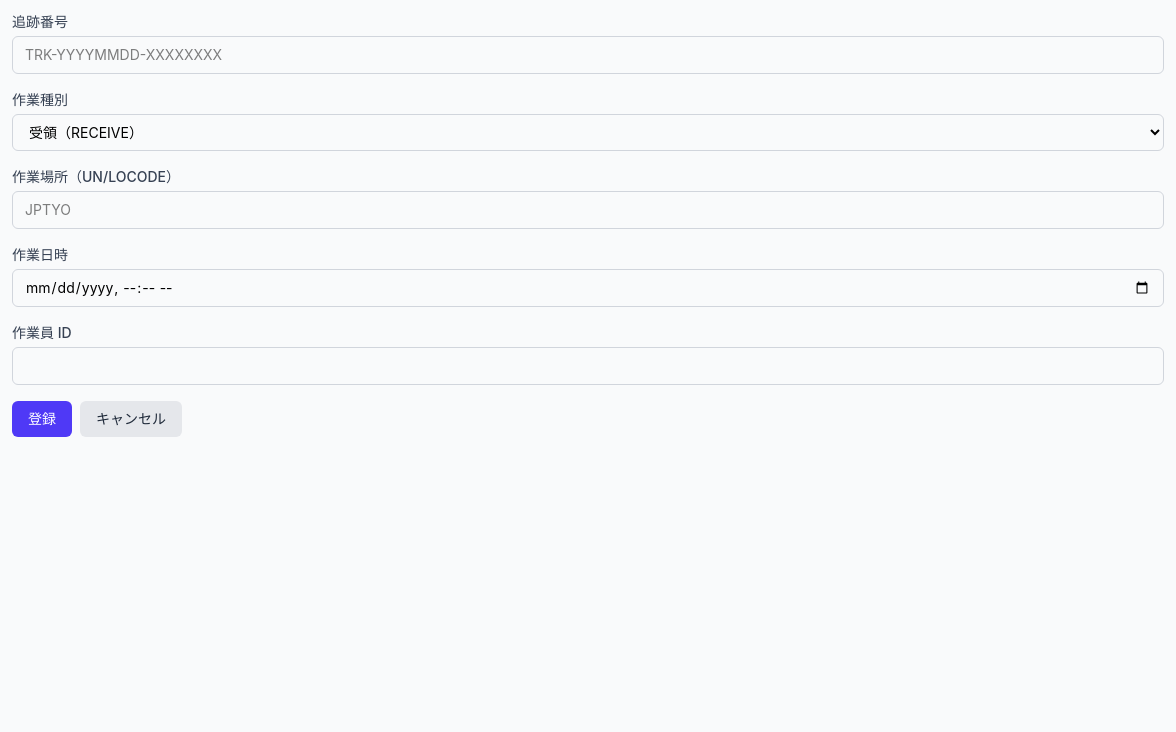
Test: HandlingActivityForm › US16 受入1: CLAIM 種別を選択すると荷受人確認フィールドが表示される
Select "引取（CLAIM）" in the dropdown with test id "handling-type-select": (588, 132) [12,114,1164,151]
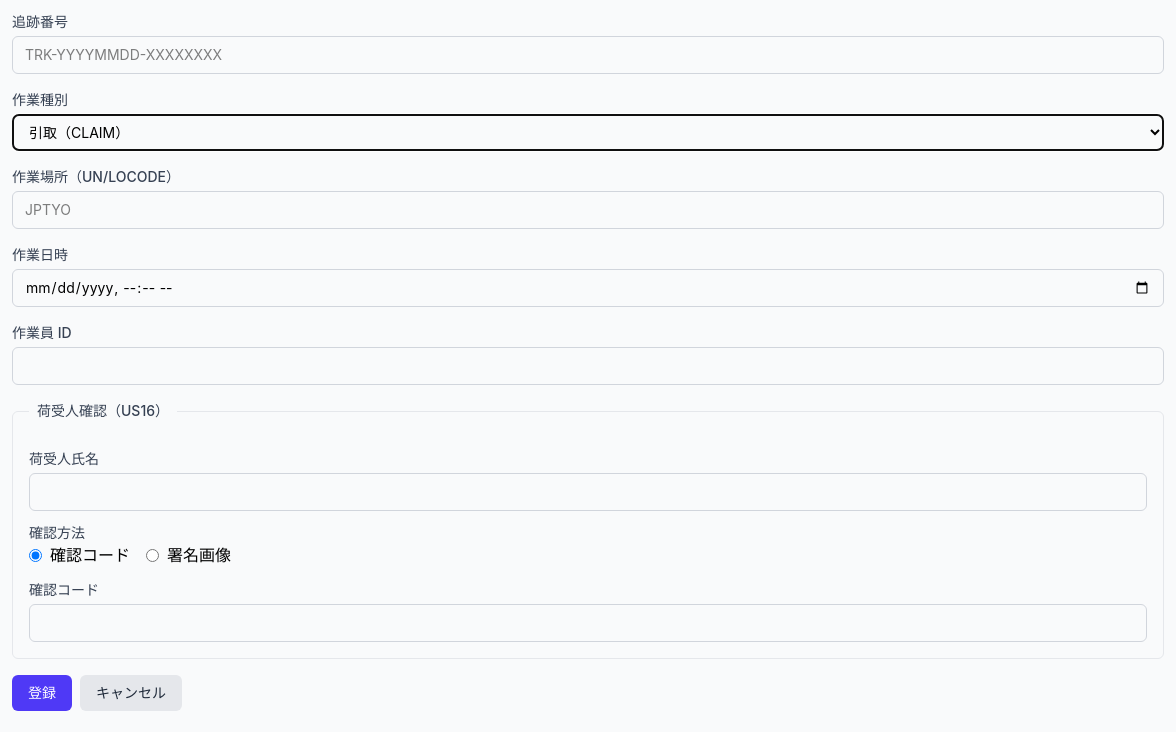
Expected: the element with test id "handling-claim-section" is shown, [12,401,1164,658]
Expected: the field with test id "claim-consignee-input" is shown, [29,473,1147,511]
Expected: the field with test id "claim-code-input" is shown, [29,604,1147,642]
